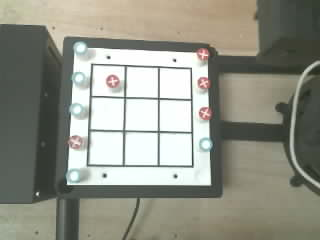blue circle: (73, 41, 87, 54), (69, 103, 83, 116), (66, 169, 80, 182), (71, 72, 85, 85), (199, 137, 212, 151)
board: (67, 42, 212, 185)
cells: (125, 132, 157, 165), (89, 132, 122, 164), (90, 98, 123, 129), (160, 133, 191, 165), (92, 65, 124, 96), (126, 99, 157, 130), (160, 100, 191, 131), (126, 67, 157, 97), (160, 68, 190, 98)
grid: (87, 64, 193, 167)
red cross: (68, 135, 83, 149), (106, 75, 119, 87), (199, 107, 212, 119), (197, 48, 209, 60), (198, 77, 210, 88)
